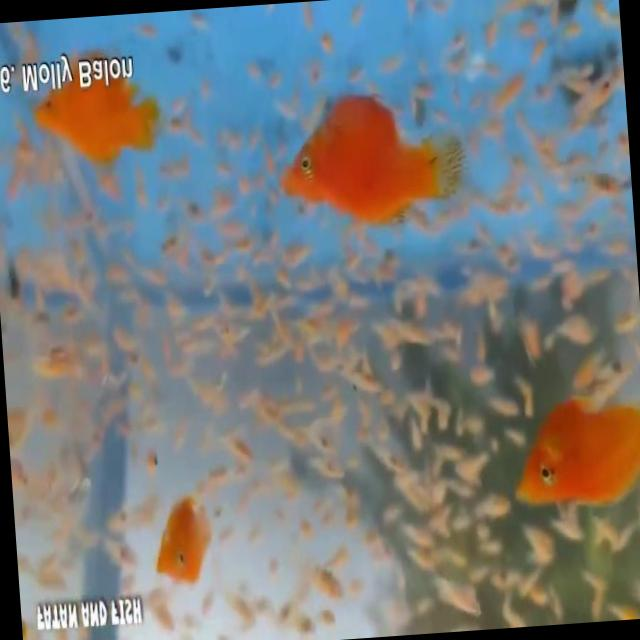PlatyFish: (267, 75, 470, 234), (497, 385, 640, 526)
